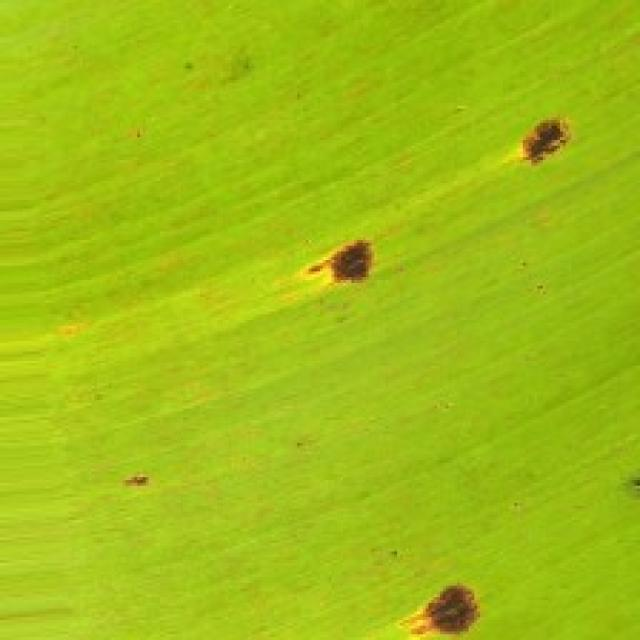Bacterial_spot: (386, 554, 491, 640), (300, 215, 390, 308), (508, 94, 588, 198), (112, 442, 163, 500)
